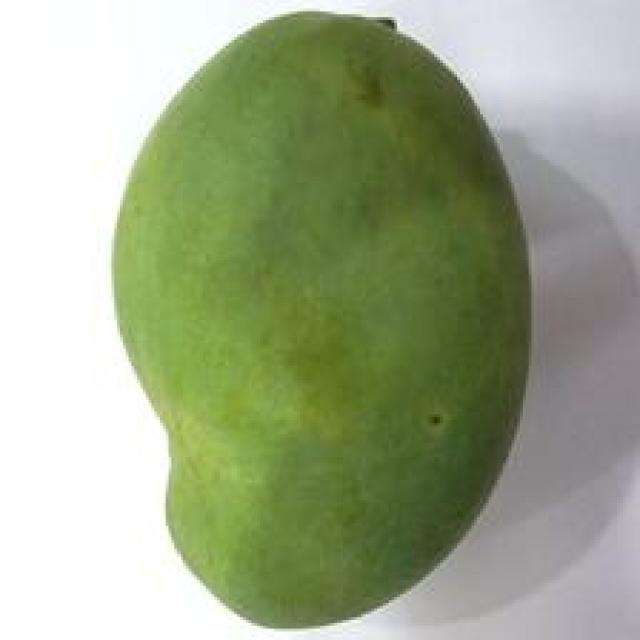Good_Mango: (114, 12, 530, 627)
